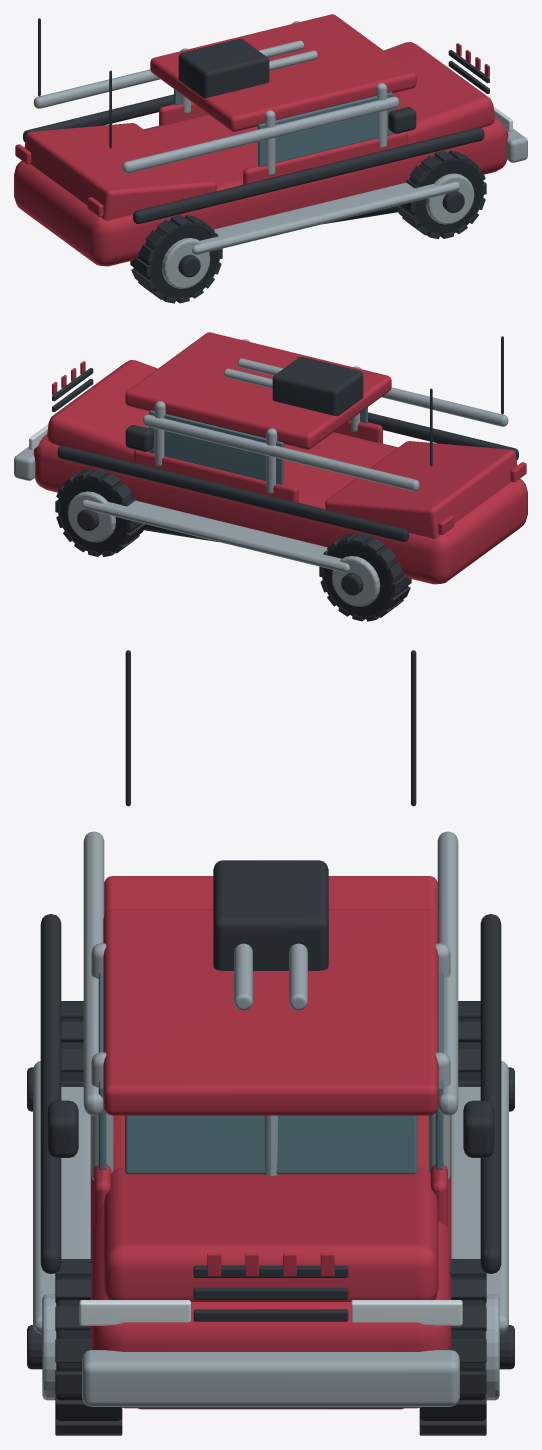
The model's file is GangInterceptor.fbx.
3 views of the same model, one above another, from view 1: azimuth 30°, elevation 25°; view 2: azimuth 150°, elevation 25°; view 3: azimuth 270°, elevation 25° (orthographic). The views are drawn at different scales.
Visible parts, largest first — view 1: VehicleRoot_SecurityRed, VehicleRoot_SecuritySteel, VehicleRoot_SecurityCarbon, VehicleRoot_SecurityGlass, Wheel_SecurityCarbon, Wheel_SecurityRubber, Wheel.001_SecurityCarbon, Wheel.001_SecurityRubber, Wheel_SecuritySteel, Wheel.001_SecuritySteel; view 2: VehicleRoot_SecurityRed, VehicleRoot_SecuritySteel, VehicleRoot_SecurityCarbon, VehicleRoot_SecurityGlass, Wheel.002_SecurityCarbon, Wheel.002_SecurityRubber, Wheel.003_SecurityCarbon, Wheel.003_SecurityRubber, Wheel.002_SecuritySteel, Wheel.003_SecuritySteel; view 3: VehicleRoot_SecurityRed, VehicleRoot_SecuritySteel, VehicleRoot_SecurityCarbon, VehicleRoot_SecurityGlass, Wheel.001_SecurityCarbon, Wheel.003_SecurityCarbon, VehicleRoot_SecurityCeramic, Wheel_SecurityCarbon, Wheel.002_SecurityCarbon, Wheel.001_SecuritySteel, Wheel.003_SecuritySteel, Wheel.001_SecurityRubber (+1 smaller).
Boxes of the visible parts, left/top/right/bottom form: VehicleRoot_SecurityRed: left=14, top=14, right=508, bottom=266; VehicleRoot_SecuritySteel: left=33, top=21, right=527, bottom=254; VehicleRoot_SecurityCarbon: left=23, top=18, right=489, bottom=224; VehicleRoot_SecurityGlass: left=174, top=89, right=392, bottom=166; Wheel_SecurityCarbon: left=130, top=215, right=222, bottom=303; Wheel_SecurityRubber: left=134, top=217, right=219, bottom=300; Wheel.001_SecurityCarbon: left=396, top=150, right=486, bottom=238; Wheel.001_SecurityRubber: left=399, top=152, right=483, bottom=236; Wheel_SecuritySteel: left=161, top=238, right=210, bottom=288; Wheel.001_SecuritySteel: left=426, top=173, right=474, bottom=224; VehicleRoot_SecurityRed: left=33, top=332, right=527, bottom=584; VehicleRoot_SecuritySteel: left=14, top=339, right=508, bottom=572; VehicleRoot_SecurityCarbon: left=52, top=336, right=518, bottom=542; VehicleRoot_SecurityGlass: left=149, top=407, right=367, bottom=484; Wheel.002_SecurityCarbon: left=319, top=533, right=411, bottom=621; Wheel.002_SecurityRubber: left=322, top=535, right=407, bottom=618; Wheel.003_SecurityCarbon: left=55, top=468, right=145, bottom=556; Wheel.003_SecurityRubber: left=58, top=470, right=142, bottom=554; Wheel.002_SecuritySteel: left=331, top=556, right=380, bottom=606; Wheel.003_SecuritySteel: left=67, top=491, right=115, bottom=542; VehicleRoot_SecurityRed: left=90, top=876, right=451, bottom=1408; VehicleRoot_SecuritySteel: left=33, top=831, right=508, bottom=1406; VehicleRoot_SecurityCarbon: left=40, top=650, right=501, bottom=1409; VehicleRoot_SecurityGlass: left=98, top=972, right=443, bottom=1174; Wheel.001_SecurityCarbon: left=27, top=1259, right=122, bottom=1435; Wheel.003_SecurityCarbon: left=419, top=1259, right=514, bottom=1435; VehicleRoot_SecurityCeramic: left=79, top=1300, right=462, bottom=1325; Wheel_SecurityCarbon: left=27, top=1001, right=83, bottom=1111; Wheel.002_SecurityCarbon: left=458, top=1001, right=514, bottom=1111; Wheel.001_SecuritySteel: left=42, top=1294, right=56, bottom=1400; Wheel.003_SecuritySteel: left=485, top=1294, right=499, bottom=1400; Wheel.001_SecurityRubber: left=56, top=1277, right=119, bottom=1420.
Bounding box in the file's own units: 5.77 × 2.98 × 2.84.
